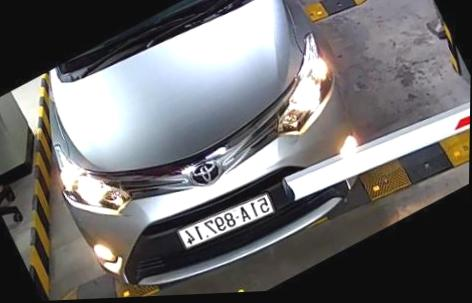License_Plate: (173, 185, 281, 255)
